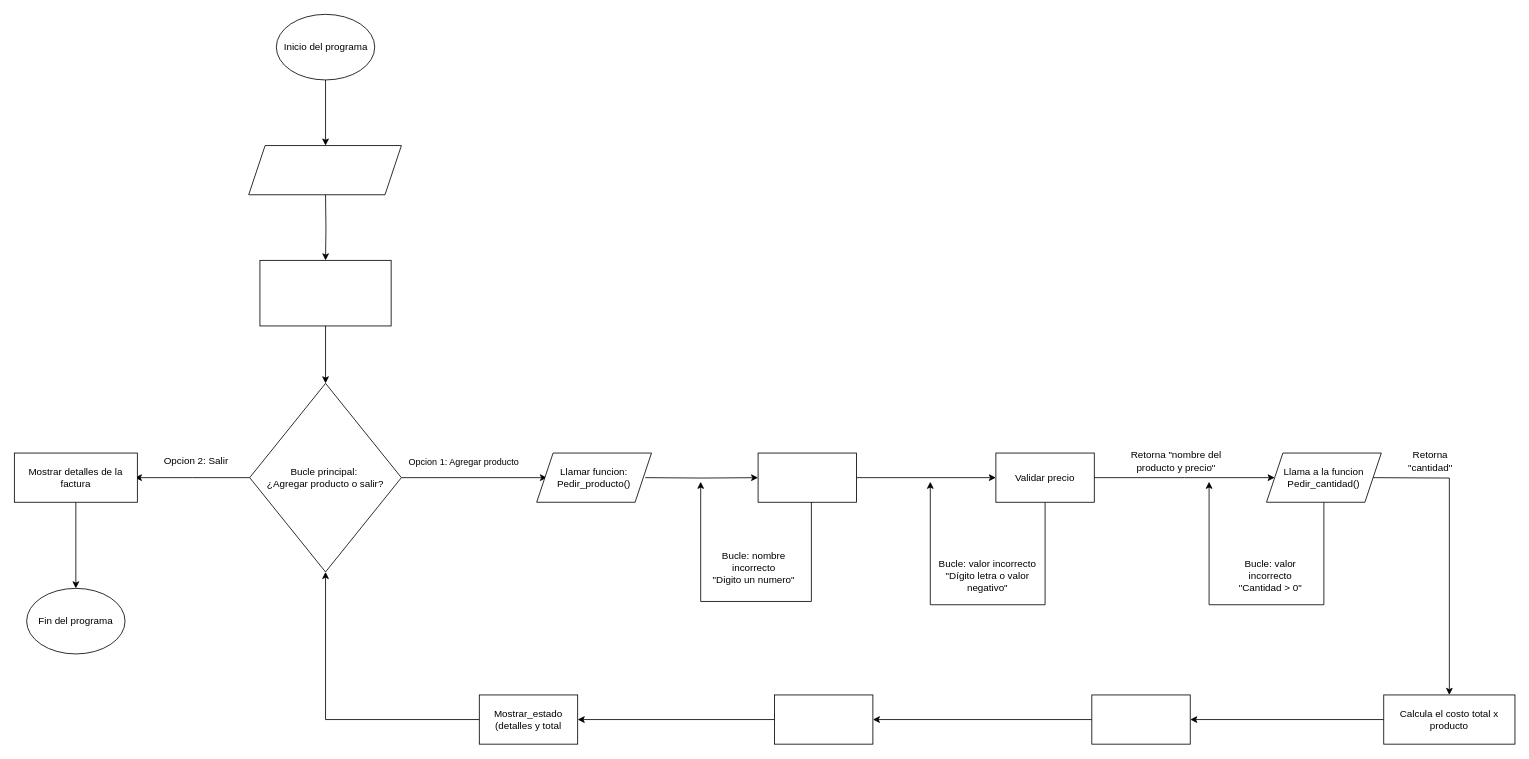
Image size: 1529x759. Some labels were removed from this diagram. The box of each missing label's shape, as (x1, y1, x2, y2) in pixels:
Actumula detalles de los productos y totales: (774, 694, 873, 744)
Acumulador de totales: (1091, 694, 1190, 744)
Ingresa nombre del usuario: (248, 145, 401, 195)
Inicializa el acumulador: subtotal = 0 detalle = " ": (259, 260, 391, 326)
Validar nombre: (757, 452, 856, 502)
